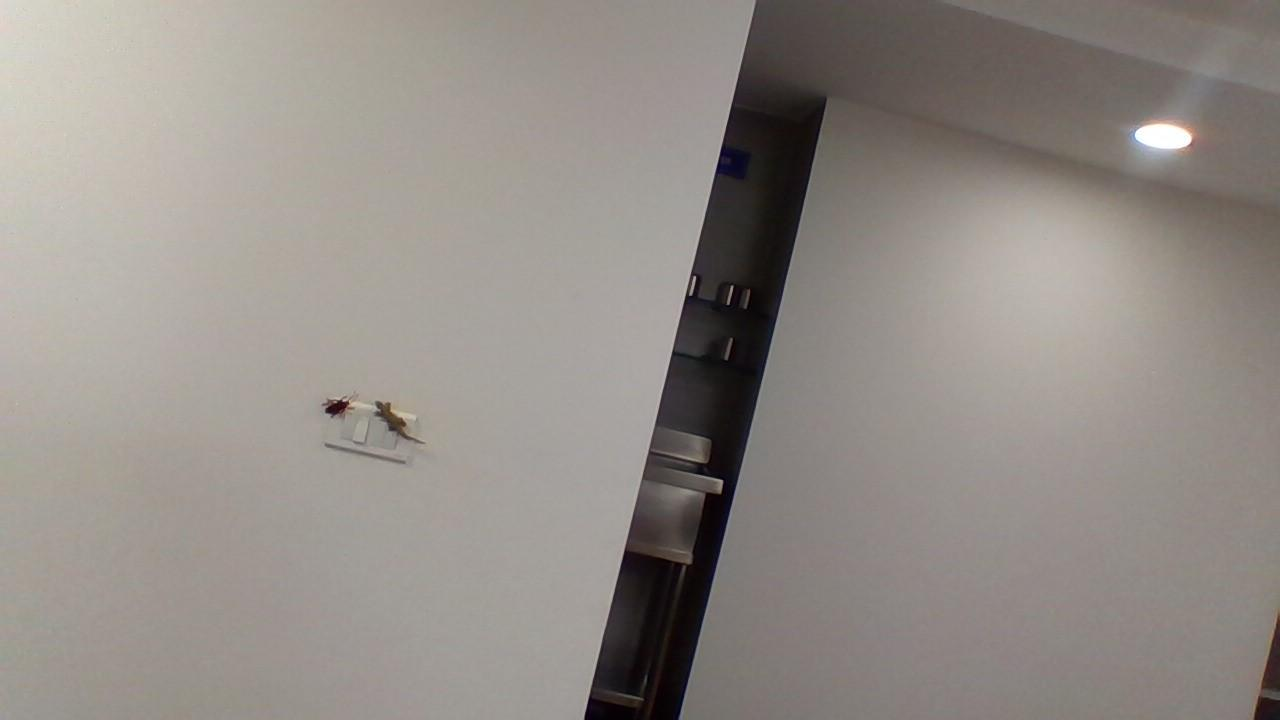cockroach: (308, 389, 363, 423)
lizard: (369, 395, 428, 450)
